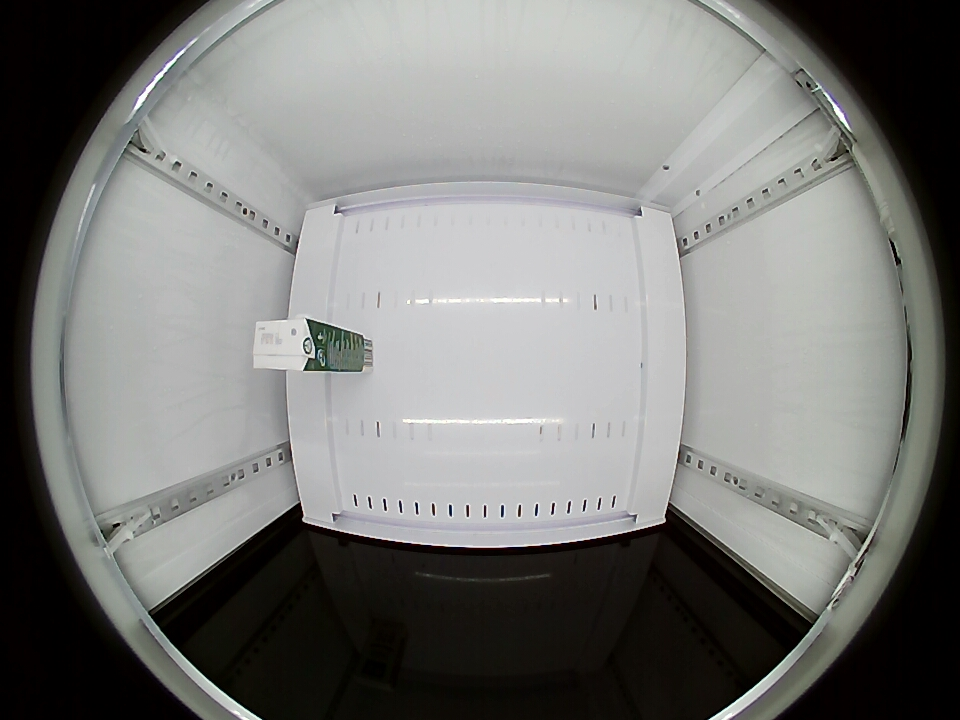jindian: (252, 317, 329, 374)
